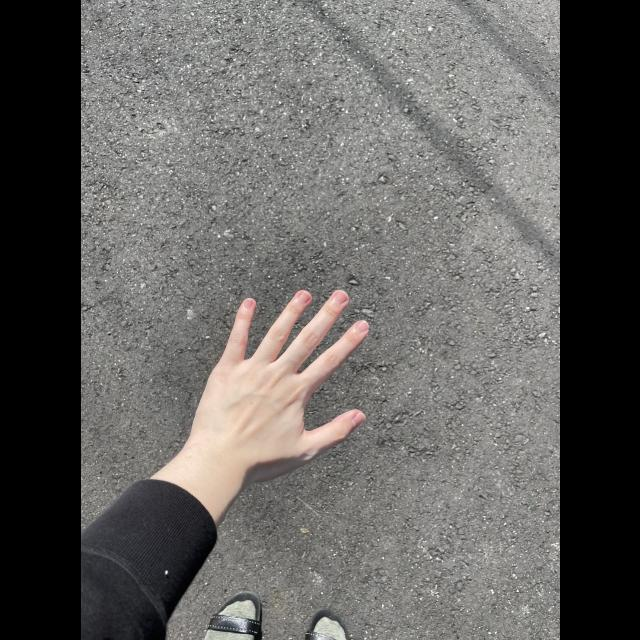bare_hand: (186, 286, 374, 477)
